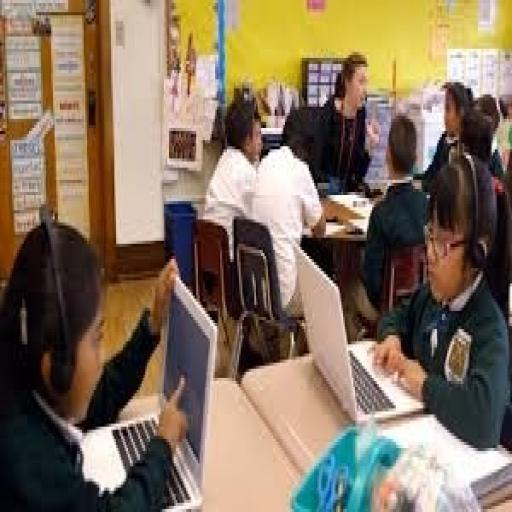sitting: (2, 52, 508, 503), (0, 213, 189, 508), (370, 146, 508, 451)
